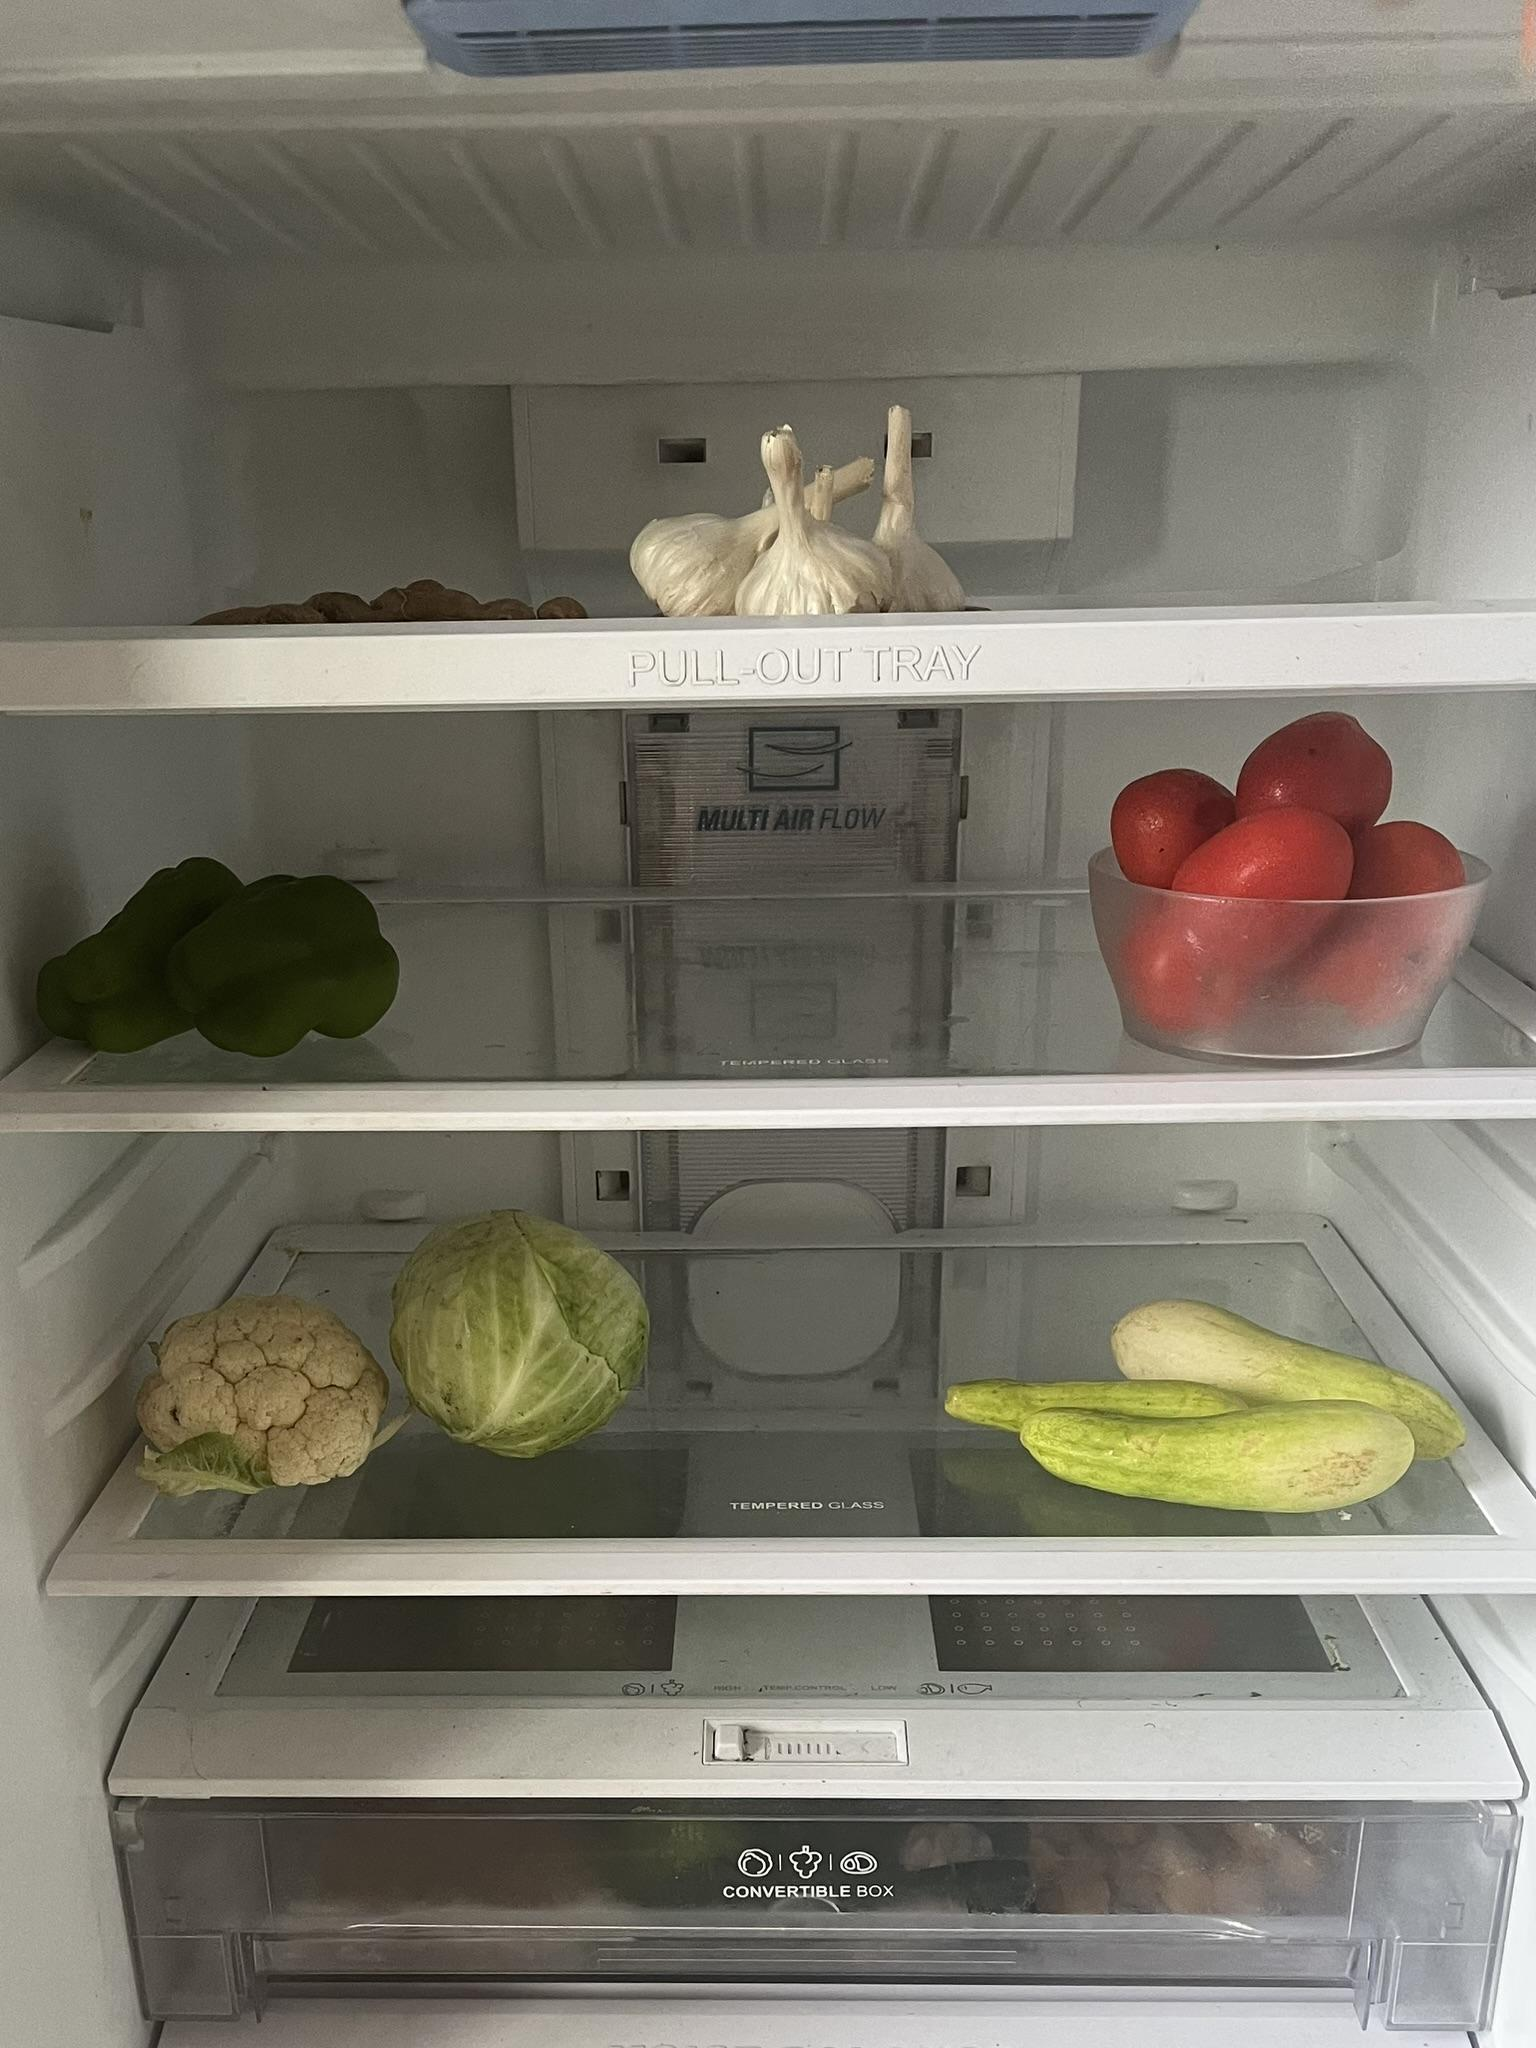cabbage: (384, 1197, 657, 1459)
capsicum: (27, 843, 407, 1063)
cauliflower: (127, 1284, 400, 1506)
cucumber: (941, 1284, 1486, 1521)
garlic: (623, 400, 979, 616)
ginger: (187, 577, 597, 619)
tomato: (1100, 710, 1507, 1066)
